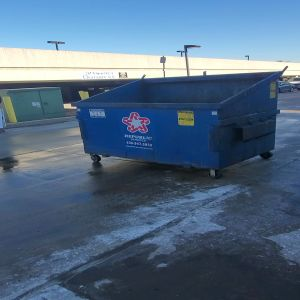Dumpster: (70, 71, 285, 182)
